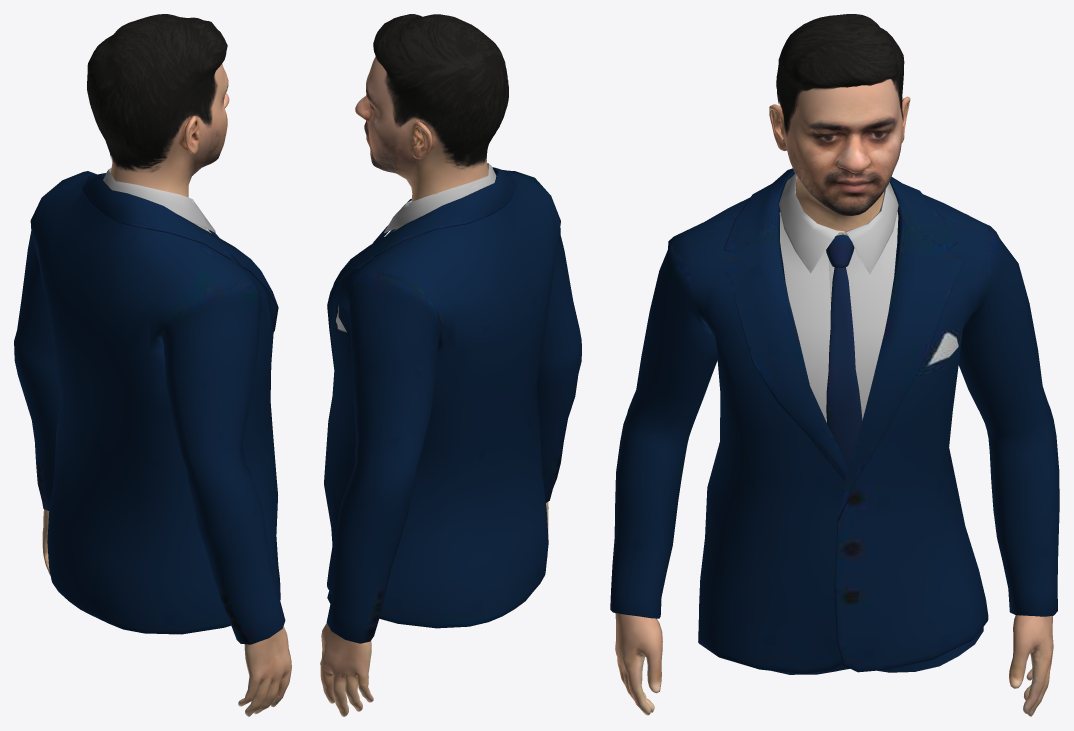
Rendered from avatarreductech.glb.
The picture shows the model from 3 angles, left to right: view 1: azimuth 30°, elevation 25°; view 2: azimuth 150°, elevation 25°; view 3: azimuth 270°, elevation 25°; orthographic projection. The views are drawn at different scales.
Parts seen in each view (by area): view 1: avaturn_look_0, avaturn_hair_0, avaturn_body; view 2: avaturn_look_0, avaturn_hair_0, avaturn_body; view 3: avaturn_look_0, avaturn_body, avaturn_hair_0.
Boxes of the visible parts, box(x1,y1,x2,y2) form: avaturn_look_0: box(14, 168, 285, 644); avaturn_hair_0: box(87, 14, 227, 172); avaturn_body: box(42, 64, 291, 716); avaturn_look_0: box(324, 163, 581, 643); avaturn_hair_0: box(373, 14, 508, 169); avaturn_body: box(320, 56, 548, 716); avaturn_look_0: box(610, 168, 1059, 674); avaturn_body: box(615, 79, 1053, 716); avaturn_hair_0: box(776, 14, 904, 136).
Size of the model in its own units: 0.9897 by 3.09 by 1.82.
3 materials, 3 textured.
